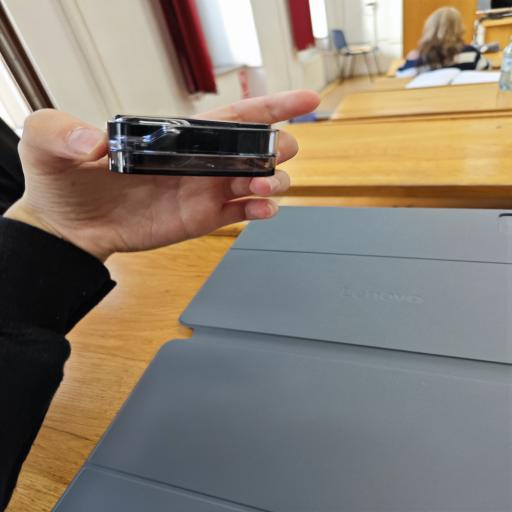Headphones: (101, 115, 287, 180)
